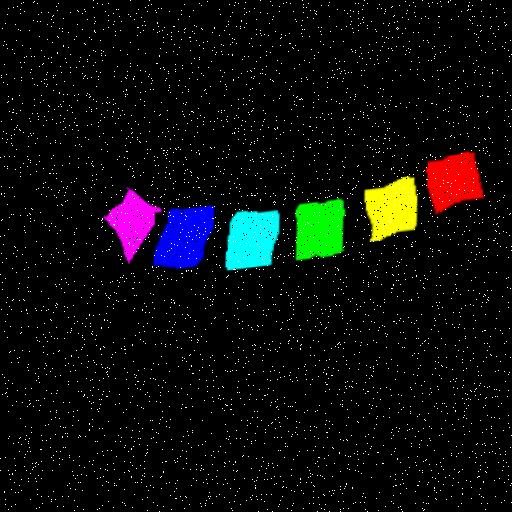L1: (429, 161, 485, 221)
L2: (367, 185, 419, 247)
L3: (298, 206, 346, 266)
L4: (229, 214, 281, 274)
L5: (156, 209, 216, 272)
S1: (107, 191, 162, 264)
